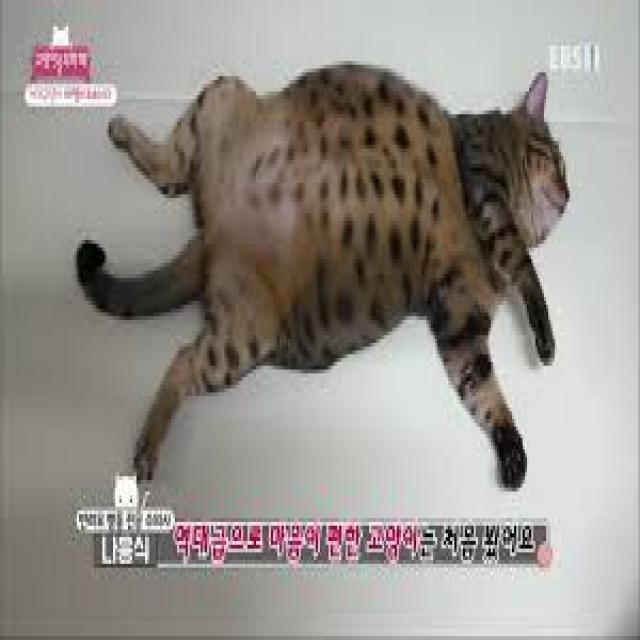cat: (69, 53, 572, 490)
